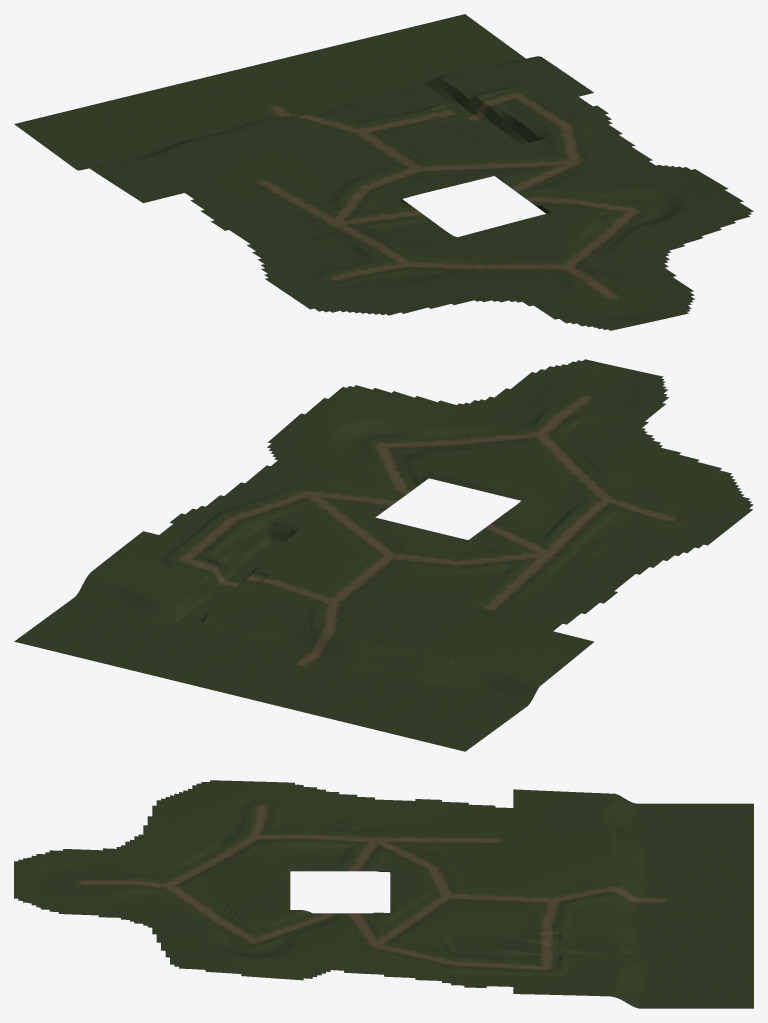
File: level_camp_terrain_shore.glb
The picture shows the model from 3 angles, top to bottom: view 1: azimuth 30°, elevation 25°; view 2: azimuth 150°, elevation 25°; view 3: azimuth 270°, elevation 25°; orthographic projection. The views are drawn at different scales.
Visible parts, largest first — view 1: level_camp_terrain_shore; view 2: level_camp_terrain_shore; view 3: level_camp_terrain_shore.
Part boxes in pixels (box(x1,y1,x2,y2)): level_camp_terrain_shore: box(14, 14, 753, 330); level_camp_terrain_shore: box(14, 359, 753, 751); level_camp_terrain_shore: box(14, 780, 753, 1008).
Bounding box in the file's own units: 68 × 5.11 × 104.
Materials: 4 (4 with a texture image).
